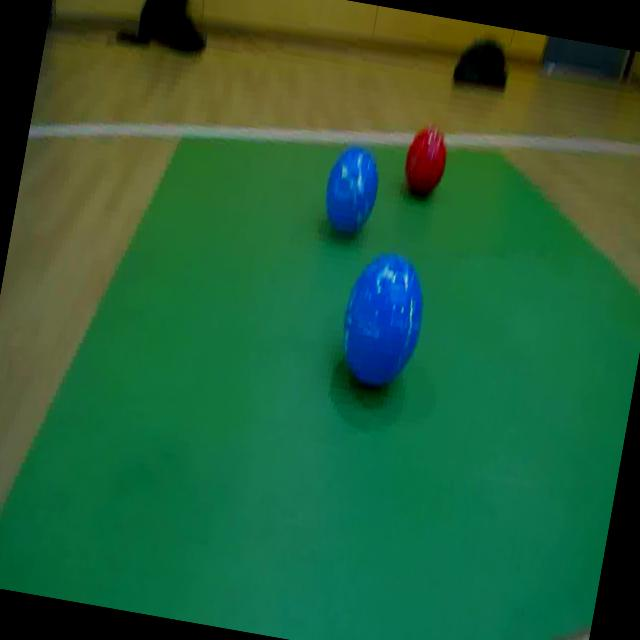blue_ball: (330, 249, 432, 397), (314, 130, 386, 244)
red_ball: (398, 120, 455, 202)
